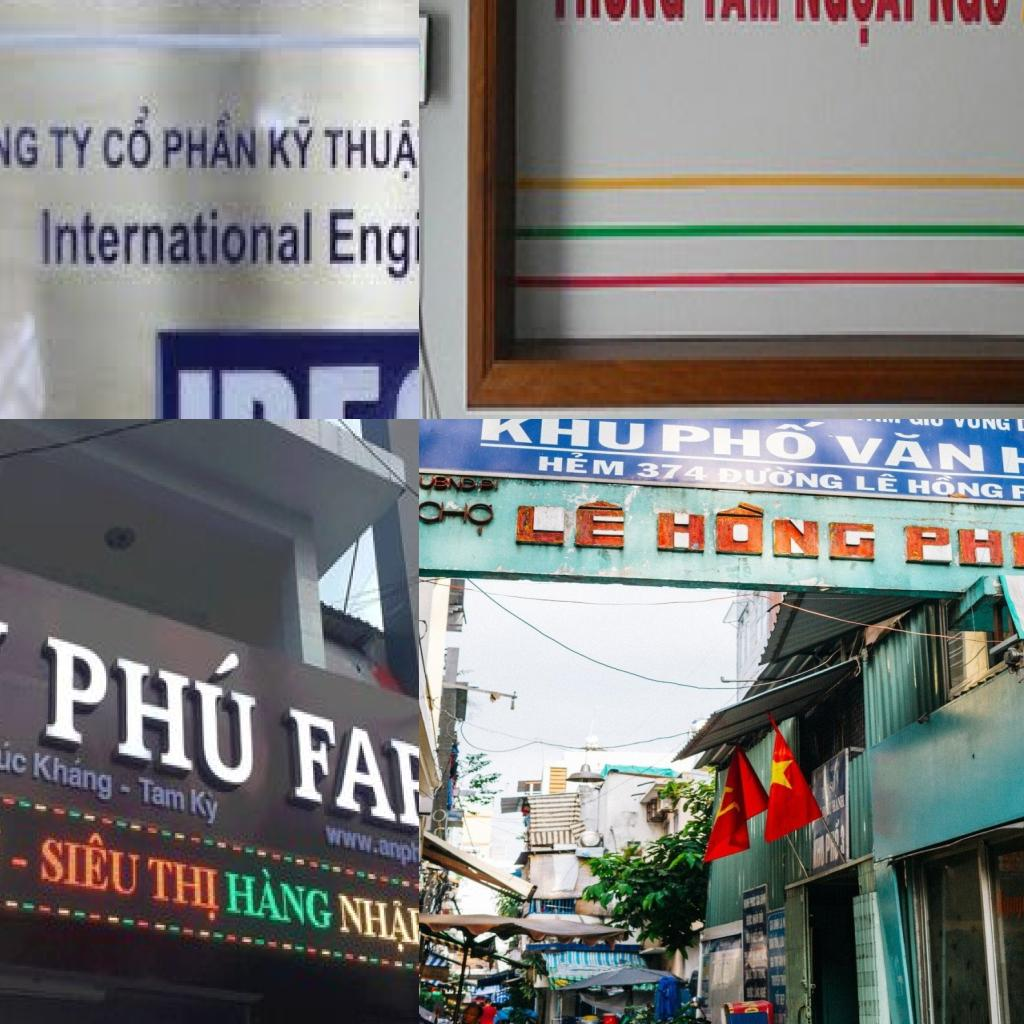text: (36, 603, 262, 797), (37, 198, 320, 270), (285, 702, 419, 854), (656, 494, 876, 564), (36, 818, 142, 901), (224, 860, 335, 937), (325, 202, 419, 284), (830, 427, 987, 474), (660, 419, 827, 462), (161, 110, 263, 178), (320, 821, 419, 891), (795, 0, 922, 54), (324, 116, 419, 188), (902, 524, 1024, 578), (513, 494, 628, 551), (333, 886, 419, 958), (146, 852, 222, 925), (479, 419, 646, 452), (32, 744, 117, 806), (104, 99, 158, 175), (545, 0, 688, 28), (716, 463, 844, 491), (42, 120, 102, 178), (263, 117, 320, 178), (419, 497, 497, 536), (693, 0, 781, 32), (905, 473, 1005, 500), (926, 0, 1018, 28), (537, 449, 626, 477), (0, 113, 42, 171), (135, 770, 188, 811), (188, 782, 228, 831), (636, 462, 708, 482), (419, 475, 502, 492), (0, 731, 30, 777), (855, 471, 899, 494), (949, 419, 1013, 433), (1001, 885, 1024, 923), (851, 419, 902, 426), (908, 419, 947, 428), (840, 823, 846, 857)
